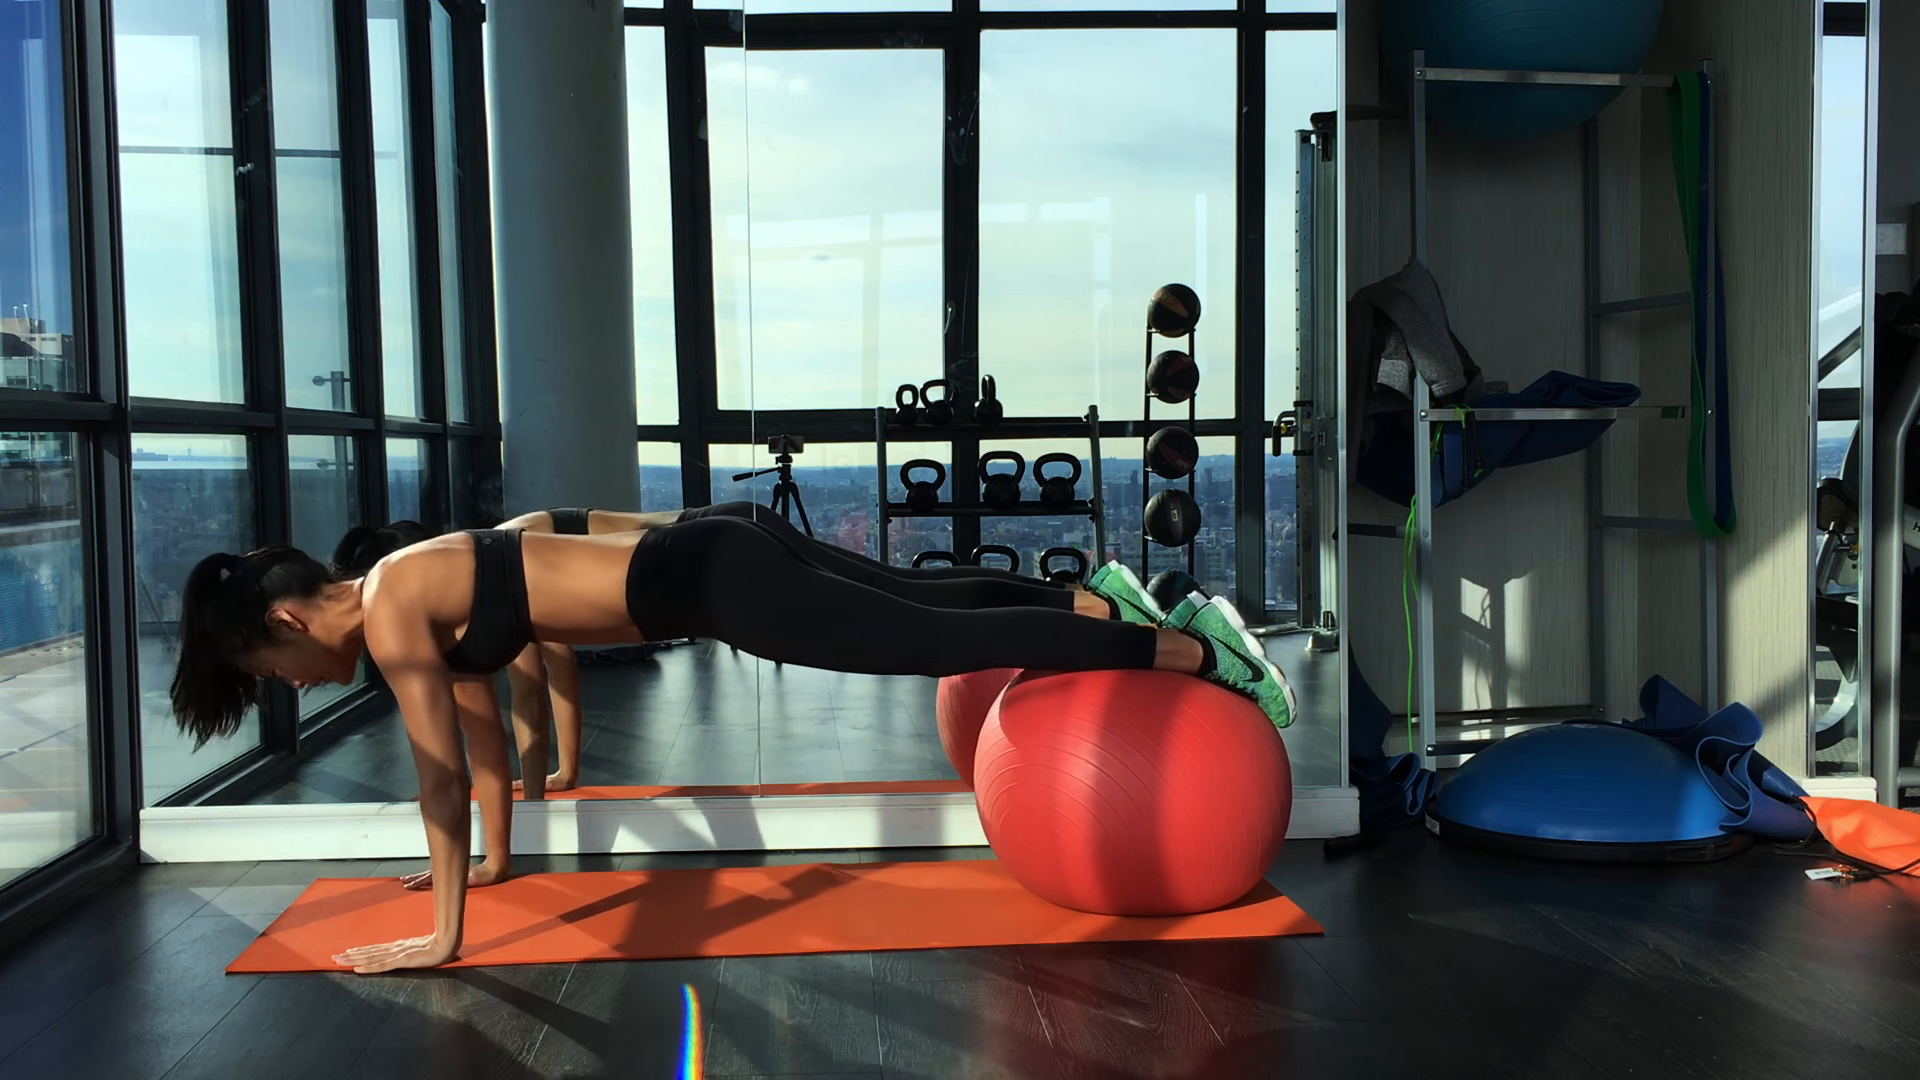yogaball: (968, 673, 1308, 919)
